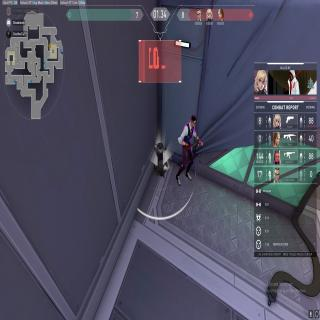ENEMY-BODY: (177, 110, 203, 188)
ENEMY-HEAD: (190, 114, 197, 128)
